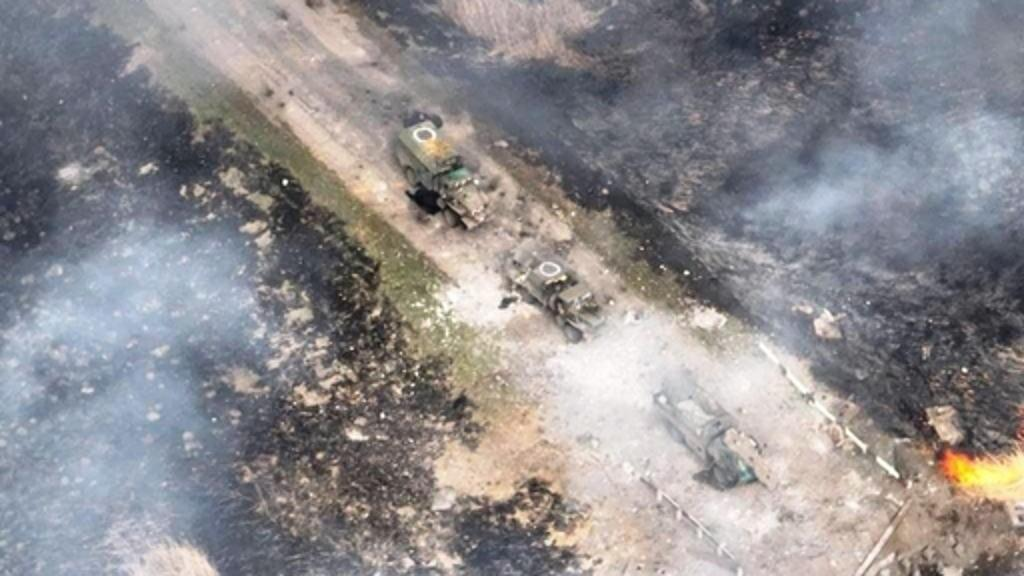TRUCK: (642, 370, 770, 490), (494, 238, 614, 342), (388, 118, 496, 232)
